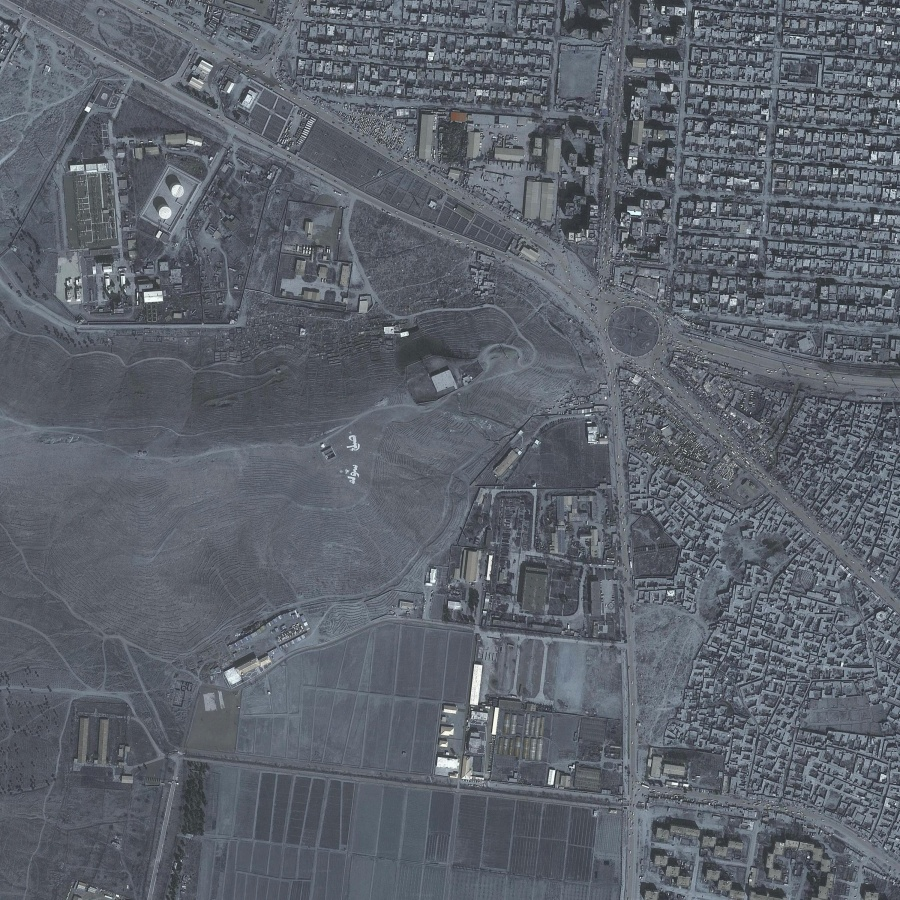PowerPlant: (65, 126, 208, 317)
